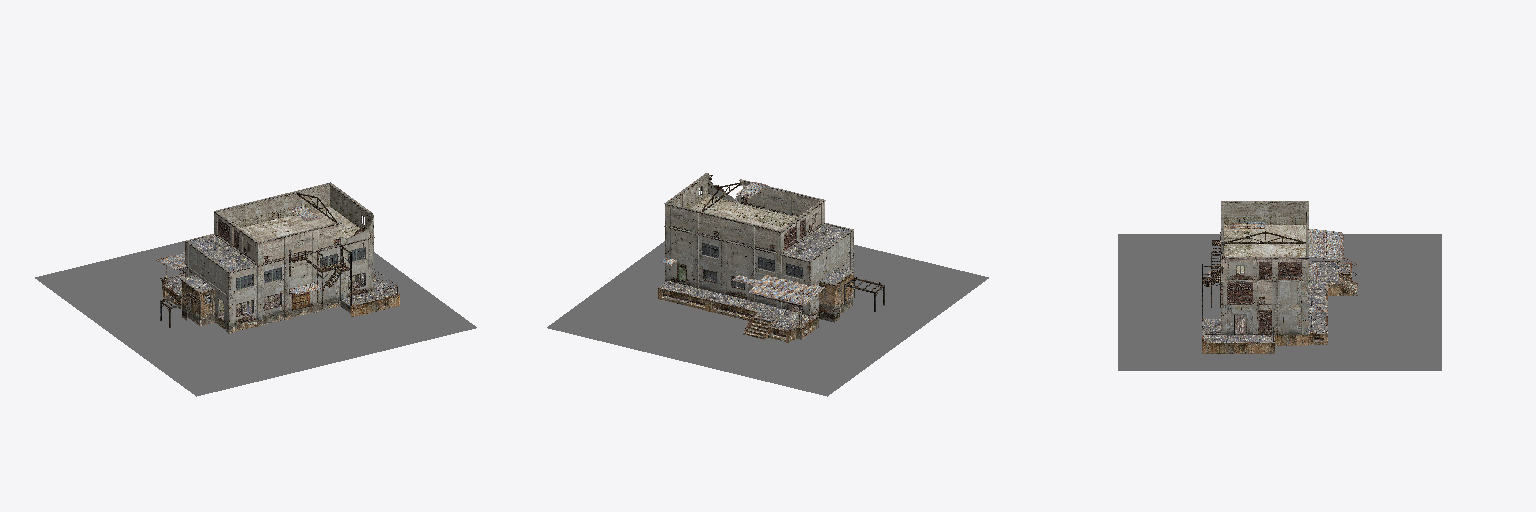
3 renders of one model, left to right at view 1: azimuth 30°, elevation 25°; view 2: azimuth 150°, elevation 25°; view 3: azimuth 270°, elevation 25°, orthographic.
Visible parts, largest first — view 1: pPlane1, polySurface363; view 2: pPlane1, polySurface363; view 3: pPlane1, polySurface363.
Boxes of the visible parts, box(x1,y1,x2,y2) form: pPlane1: box(35, 241, 476, 396); polySurface363: box(156, 182, 399, 333); pPlane1: box(547, 241, 988, 396); polySurface363: box(658, 173, 884, 342); pPlane1: box(1118, 234, 1441, 370); polySurface363: box(1202, 201, 1357, 353).
Bounding box in the file's own units: 33.43 × 11.56 × 33.43.
Materials: 30 (1 with a texture image).